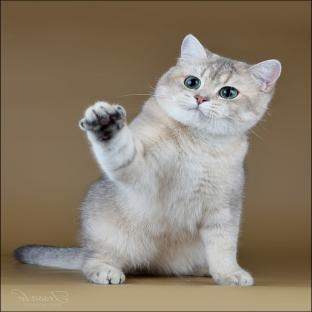Animal: (15, 34, 281, 286)
